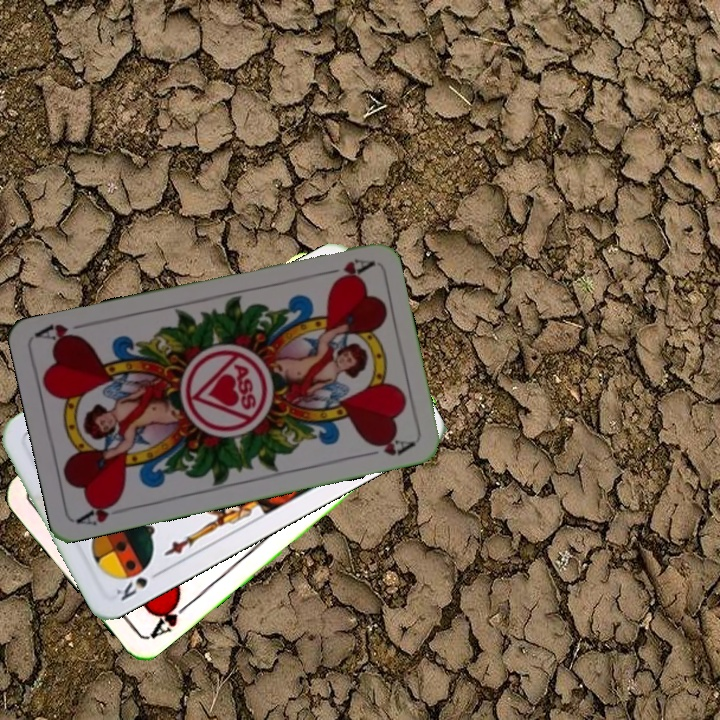HA: (146, 592, 195, 642), (316, 254, 375, 284), (74, 495, 124, 528)
SK: (111, 566, 166, 604)
